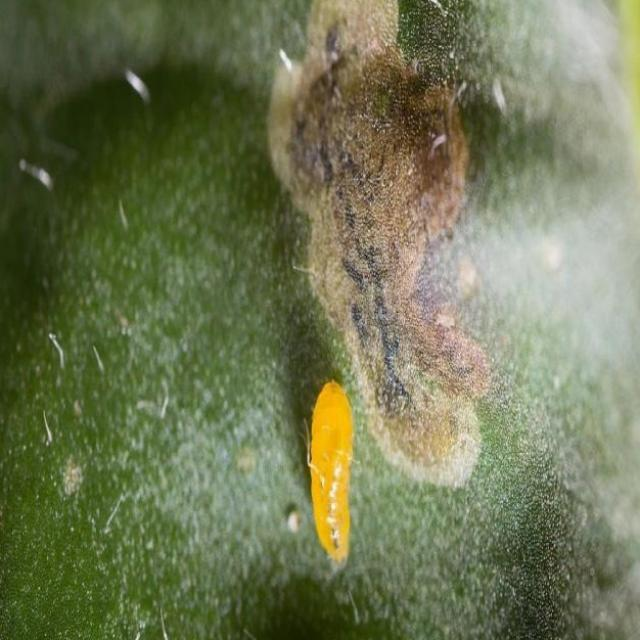Serpentine leafminer: (267, 0, 497, 515), (298, 371, 362, 568)
